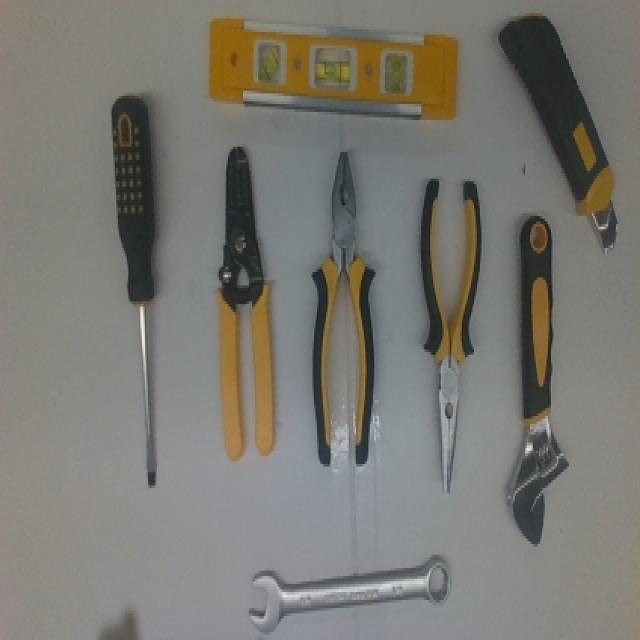estilete: (499, 15, 616, 250)
